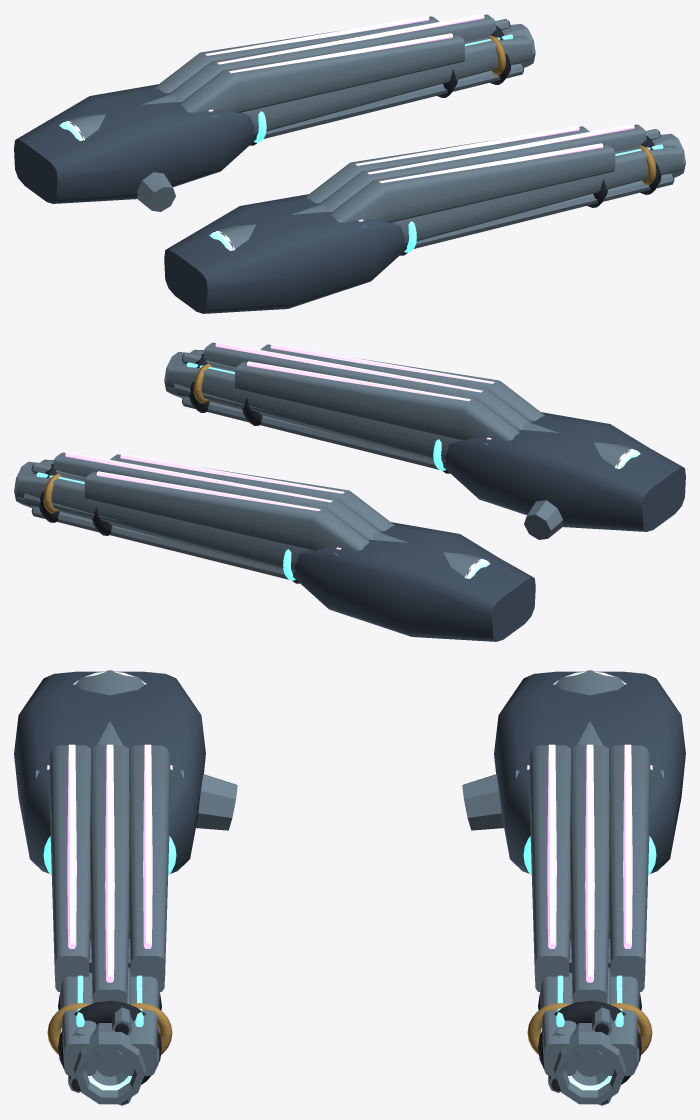
The model's file is mount.glb.
3 renders of one model, top to bottom at view 1: azimuth 30°, elevation 25°; view 2: azimuth 150°, elevation 25°; view 3: azimuth 270°, elevation 25°, orthographic. The views are drawn at different scales.
Visible parts, largest first — view 1: m_heavy Fitting gunmetal, m_array Brushed fitting edges, m_siege Brushed fitting edges, m_rotary Brushed fitting edges, m_array m_array emitter, m_heavy Brushed fitting edges, m_rotary Machined graphite, m_siege m_siege emitter, m_siege Champagne gold edging; view 2: m_heavy Fitting gunmetal, m_array Brushed fitting edges, m_siege Brushed fitting edges, m_rotary Brushed fitting edges, m_array m_array emitter, m_heavy Brushed fitting edges, m_rotary Machined graphite, m_siege m_siege emitter, m_siege Champagne gold edging; view 3: m_array Brushed fitting edges, m_heavy Fitting gunmetal, m_array m_array emitter, m_heavy Brushed fitting edges, m_siege Brushed fitting edges, m_rotary Brushed fitting edges, m_rotary Machined graphite, m_siege Champagne gold edging, m_siege m_siege emitter.
Part boxes in pixels (x1,y1,x2,y2): m_heavy Fitting gunmetal: (14,84,407,313); m_array Brushed fitting edges: (155,14,646,227); m_siege Brushed fitting edges: (242,35,682,244); m_rotary Brushed fitting edges: (61,19,673,249); m_array m_array emitter: (205,14,634,221); m_heavy Brushed fitting edges: (137,23,685,211); m_rotary Machined graphite: (437,20,674,207); m_siege m_siege emitter: (254,34,663,252); m_siege Champagne gold edging: (488,35,656,185); m_heavy Fitting gunmetal: (292,412,685,641); m_array Brushed fitting edges: (53,342,544,555); m_siege Brushed fitting edges: (17,349,457,572); m_rotary Brushed fitting edges: (24,350,638,579); m_array m_array emitter: (65,342,494,549); m_heavy Brushed fitting edges: (14,351,562,570); m_rotary Machined graphite: (23,353,262,535); m_siege m_siege emitter: (36,362,445,580); m_siege Champagne gold edging: (43,363,211,513); m_array Brushed fitting edges: (36,745,663,1003); m_heavy Fitting gunmetal: (14,671,685,873); m_array m_array emitter: (47,744,652,982); m_heavy Brushed fitting edges: (73,774,626,1104); m_siege Brushed fitting edges: (60,941,639,1075); m_rotary Brushed fitting edges: (68,670,639,1105); m_rotary Machined graphite: (58,962,641,1104); m_siege Champagne gold edging: (47,1003,652,1054); m_siege m_siege emitter: (43,836,656,1026).
Bounding box in the file's own units: 18.8 × 3.64 × 14.
